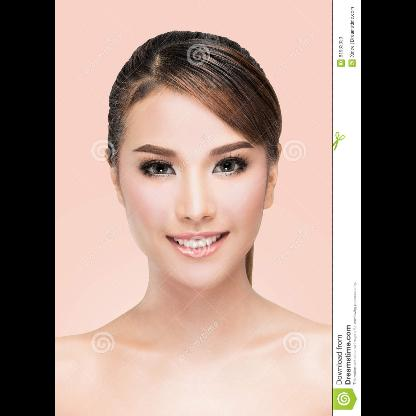Female: (111, 83, 277, 284)
